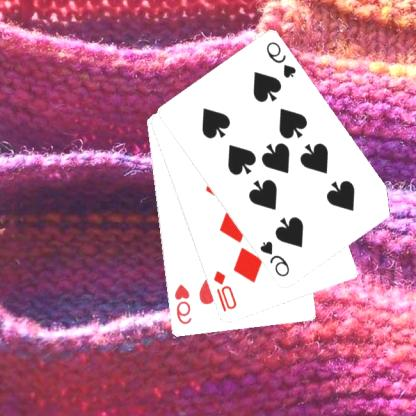10D: (212, 268, 240, 314)
6H: (172, 282, 194, 326)
9S: (259, 238, 293, 279), (265, 39, 299, 80)
